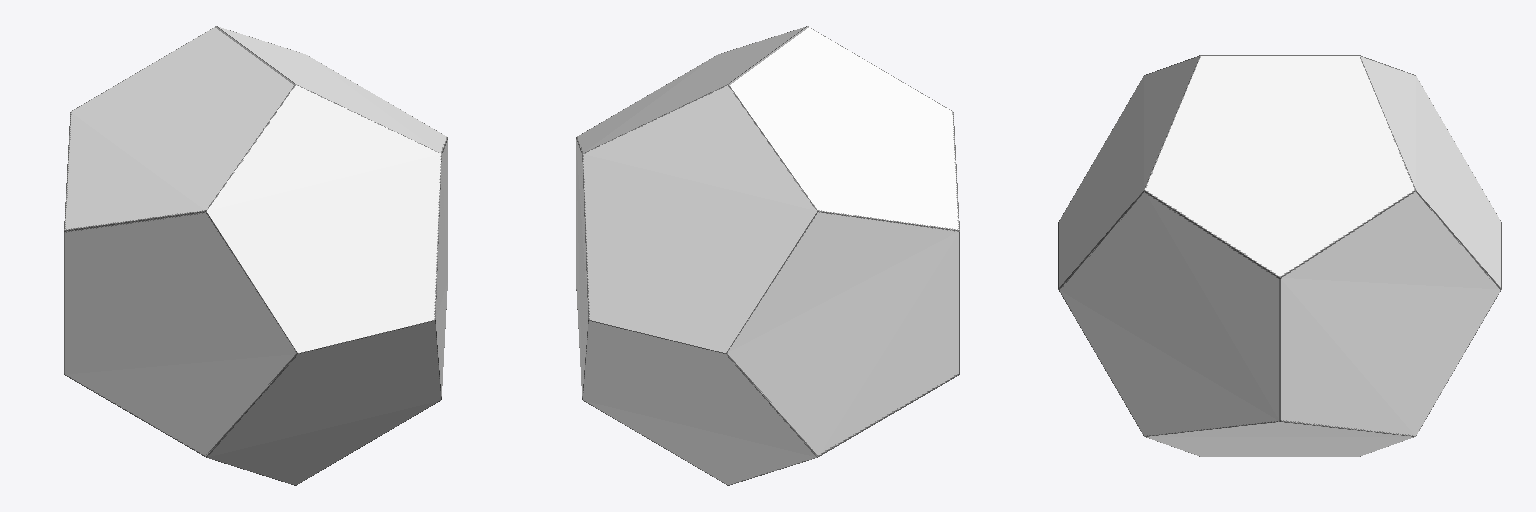
The picture shows the model from 3 angles: view 1: azimuth 30°, elevation 25°; view 2: azimuth 150°, elevation 25°; view 3: azimuth 270°, elevation 25°; orthographic projection.
Visible parts, largest first — view 1: Dodecahedron; view 2: Dodecahedron; view 3: Dodecahedron.
Part boxes in pixels (left/top/right/bottom): Dodecahedron: left=64, top=26, right=447, bottom=485; Dodecahedron: left=576, top=26, right=959, bottom=485; Dodecahedron: left=1058, top=55, right=1501, bottom=456.
Bounding box in the file's own units: 1 × 1 × 1.
1 materials, 1 textured.